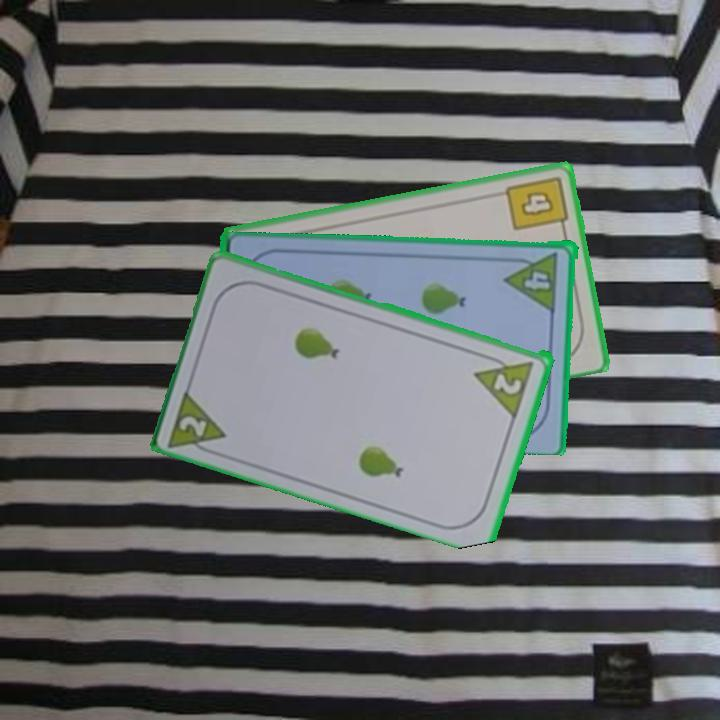2p: (490, 369, 525, 398), (176, 411, 211, 439)
4b: (502, 172, 570, 236)
4p: (503, 248, 562, 313)
